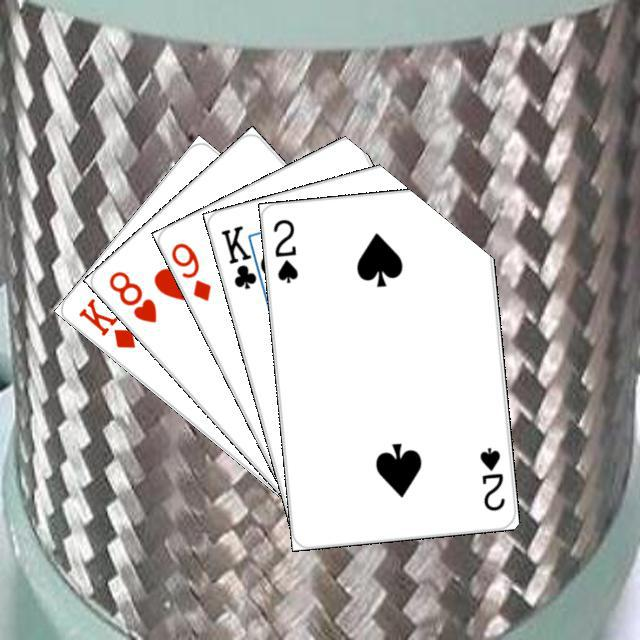2s: (268, 214, 300, 285), (475, 443, 507, 513)
8h: (104, 266, 159, 325)
9d: (166, 237, 213, 303)
Kc: (215, 220, 267, 294)
Kd: (73, 293, 137, 350)
